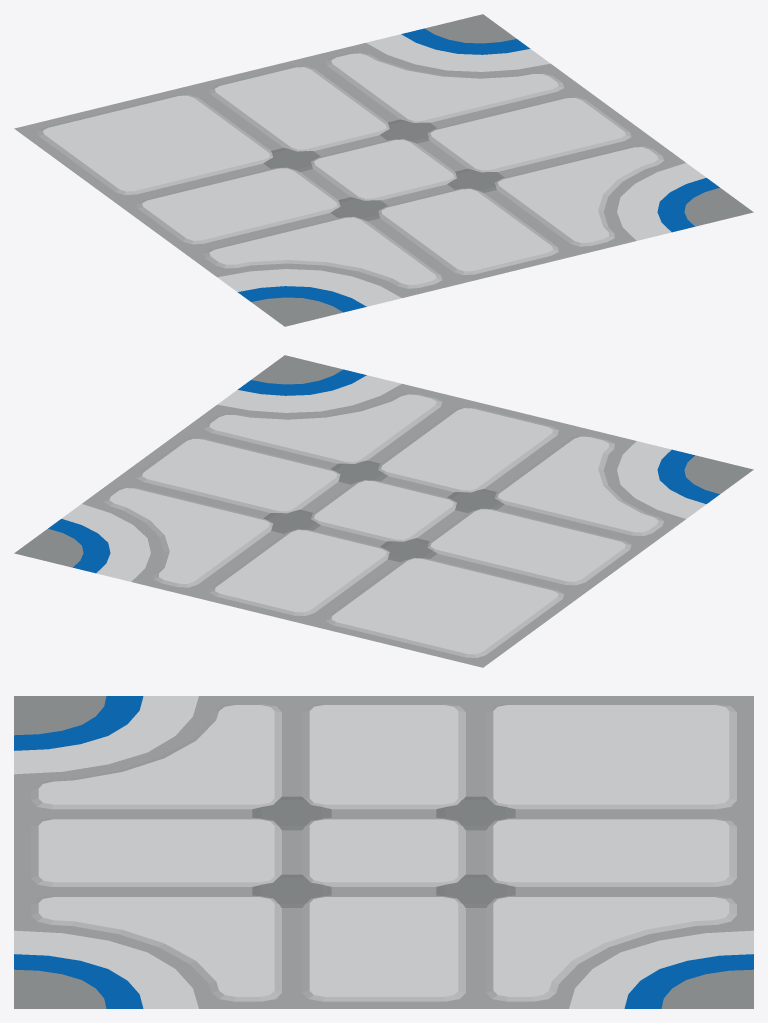
File: Floor_type_A_031.fbx
3 renders of one model, top to bottom at view 1: azimuth 30°, elevation 25°; view 2: azimuth 150°, elevation 25°; view 3: azimuth 270°, elevation 25°, orthographic. The views are drawn at different scales.
Parts seen in each view (by area): view 1: Floor_type_A_031; view 2: Floor_type_A_031; view 3: Floor_type_A_031.
Boxes of the visible parts, <box> form: Floor_type_A_031: <box>14,14,753,326</box>; Floor_type_A_031: <box>14,355,753,667</box>; Floor_type_A_031: <box>14,696,753,1008</box>.
Size of the model in its own units: 400 by 400 by 1.34.
